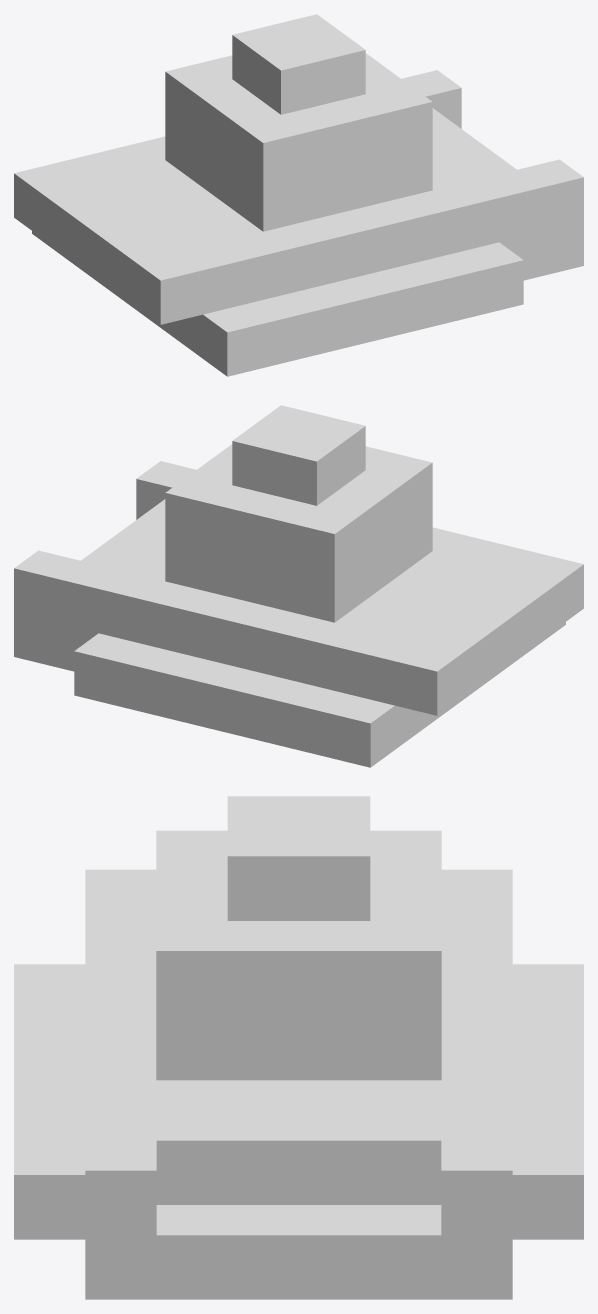
File: tankbase.obj
The picture shows the model from 3 angles, top to bottom: view 1: azimuth 30°, elevation 25°; view 2: azimuth 150°, elevation 25°; view 3: azimuth 270°, elevation 25°; orthographic projection. The views are drawn at different scales.
Size of the model in its own units: 1 by 0.5 by 0.8.
1 material, 1 textured.
